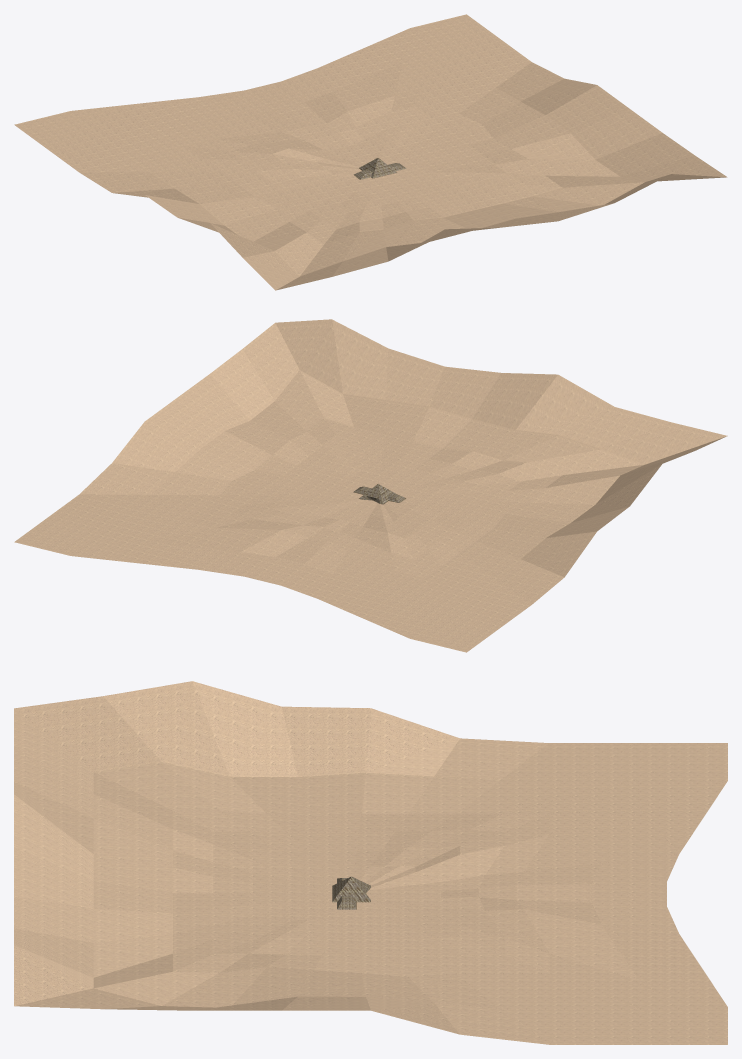
File: PyramidTextured.glb
3 renders of one model, top to bottom at view 1: azimuth 30°, elevation 25°; view 2: azimuth 150°, elevation 25°; view 3: azimuth 270°, elevation 25°, orthographic. The views are drawn at different scales.
Parts seen in each view (by area): view 1: Cube; view 2: Cube; view 3: Cube.
Boxes of the visible parts, x1,y1,x2,y2 form: Cube: [14, 14, 727, 290]; Cube: [14, 319, 727, 652]; Cube: [14, 681, 727, 1044].
Size of the model in its own units: 1157 by 111 by 1157.
Materials: 4 (4 with a texture image).
